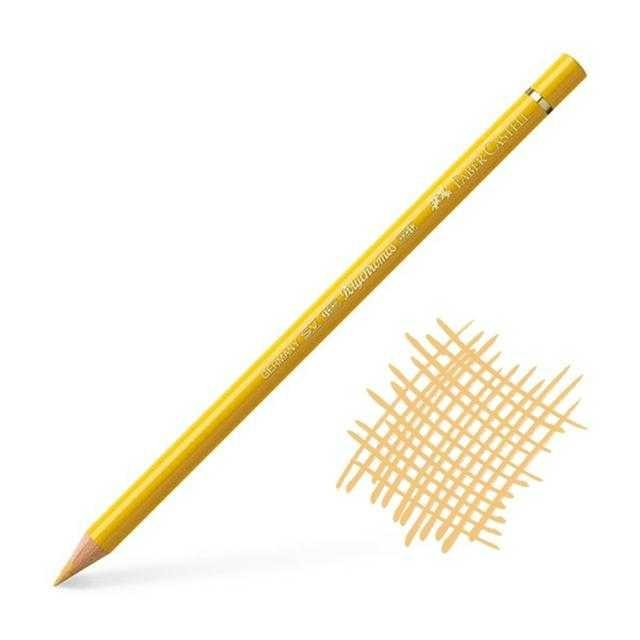pencil: (25, 35, 620, 617)
